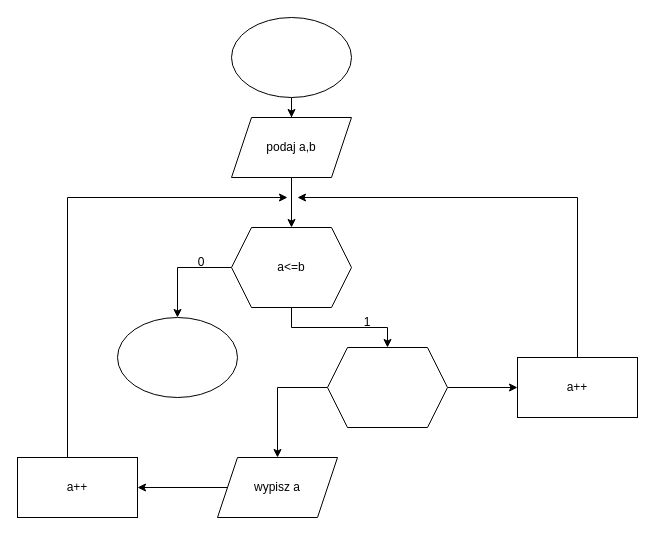
Some shapes in this 655 by 535 pixel diagram are drawn without their labels. The shapes that lost their labels are listed below. From the top down, each one's centre as x and y in pixels, then its label:
At pixel 291 57: "start".
At pixel 177 357: "stop".
At pixel 387 387: "a%2=0".
